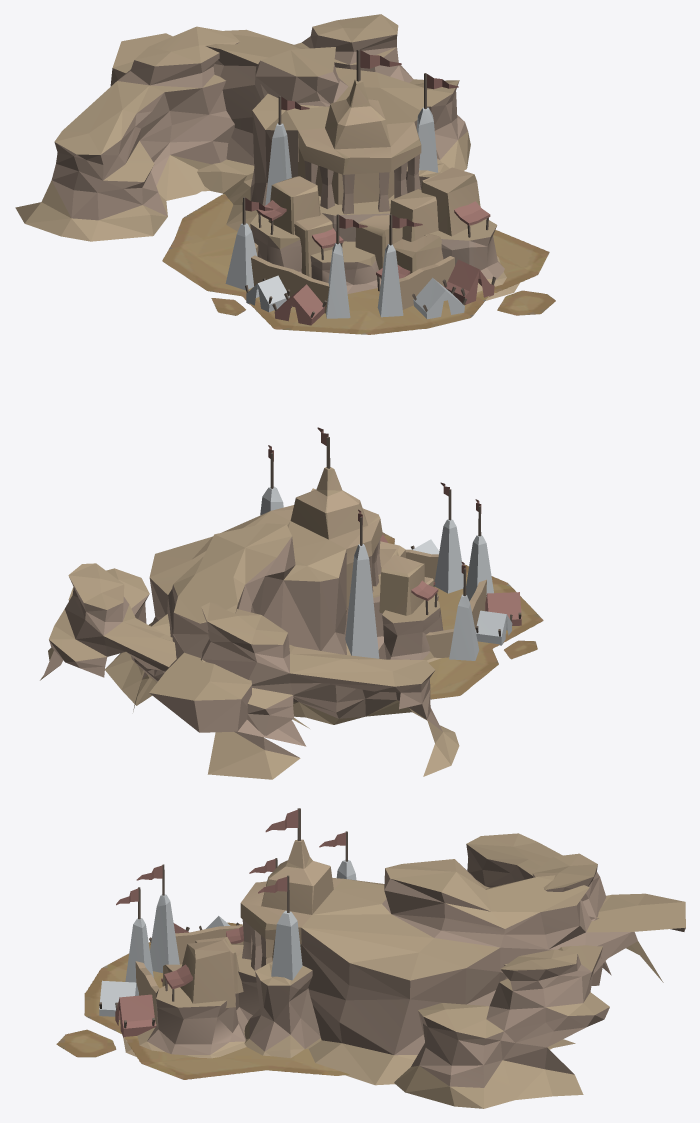
Rendered from townDesert1.fbx.
3 views of the same model, one above another, from view 1: azimuth 30°, elevation 25°; view 2: azimuth 150°, elevation 25°; view 3: azimuth 270°, elevation 25° (orthographic). The views are drawn at different scales.
Visible parts, largest first — view 1: townDesert1, groundDecal; view 2: townDesert1, groundDecal; view 3: townDesert1, groundDecal.
Part boxes in pixels (x1=…): townDesert1: x1=15, y1=14, x2=519, y2=325; groundDecal: x1=162, y1=194, x2=555, y2=334; townDesert1: x1=40, y1=427, x2=521, y2=779; groundDecal: x1=346, y1=532, x2=543, y2=699; townDesert1: x1=99, y1=808, x2=685, y2=1108; groundDecal: x1=56, y1=922, x2=349, y2=1079.
Size of the model in its own units: 6.55 by 3.02 by 8.72.
Materials: 2 (2 with a texture image).
